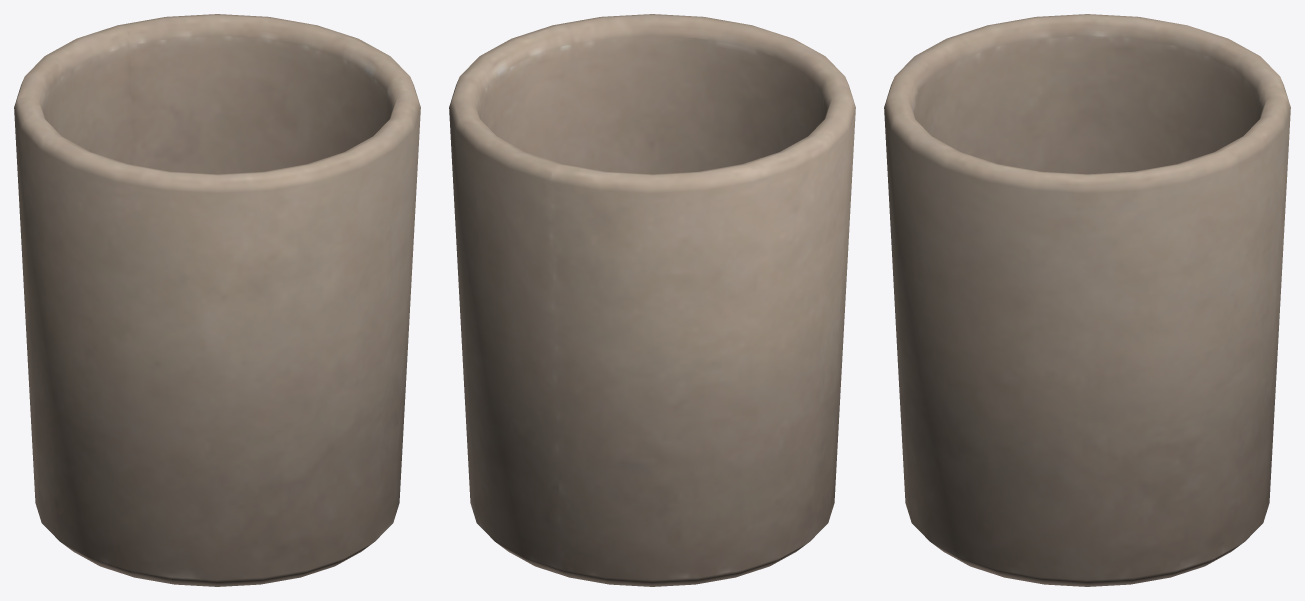
File: SM_Cup.fbx
The picture shows the model from 3 angles, left to right: view 1: azimuth 30°, elevation 25°; view 2: azimuth 150°, elevation 25°; view 3: azimuth 270°, elevation 25°; orthographic projection.
Parts seen in each view (by area): view 1: SM_Cup_LOD0; view 2: SM_Cup_LOD0; view 3: SM_Cup_LOD0.
Part boxes in pixels (left/top/right/bottom): SM_Cup_LOD0: left=14, top=14, right=420, bottom=586; SM_Cup_LOD0: left=449, top=14, right=855, bottom=586; SM_Cup_LOD0: left=884, top=14, right=1290, bottom=586.
Size of the model in its own units: 8.89 by 8.89 by 10.15.
Materials: 1 (1 with a texture image).
